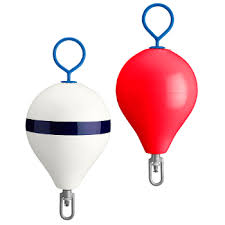buoy: (116, 48, 198, 155)
